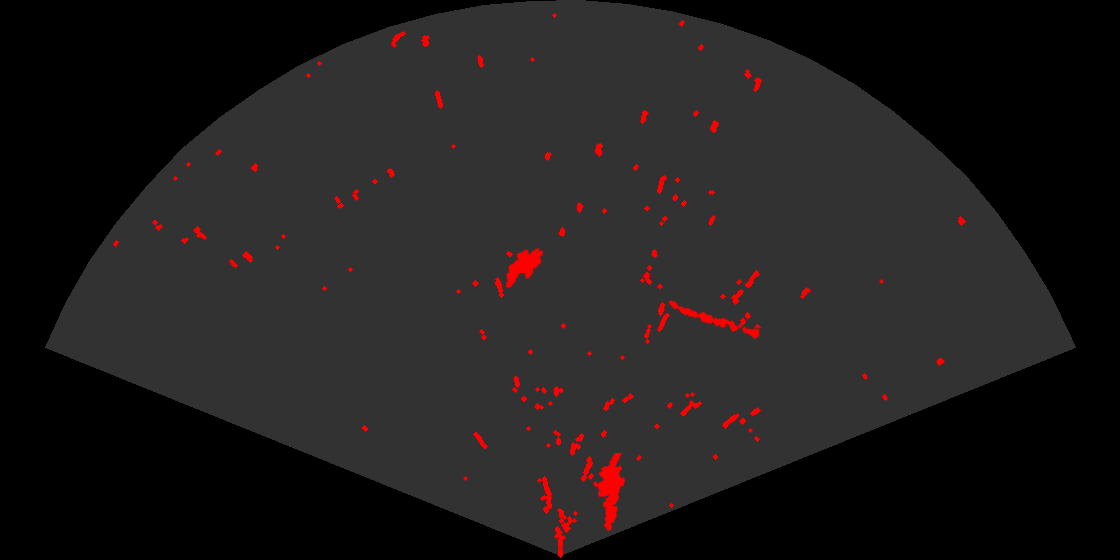AUV: (504, 246, 545, 290)
chain: (667, 298, 762, 341)
frogman: (592, 453, 627, 532)
